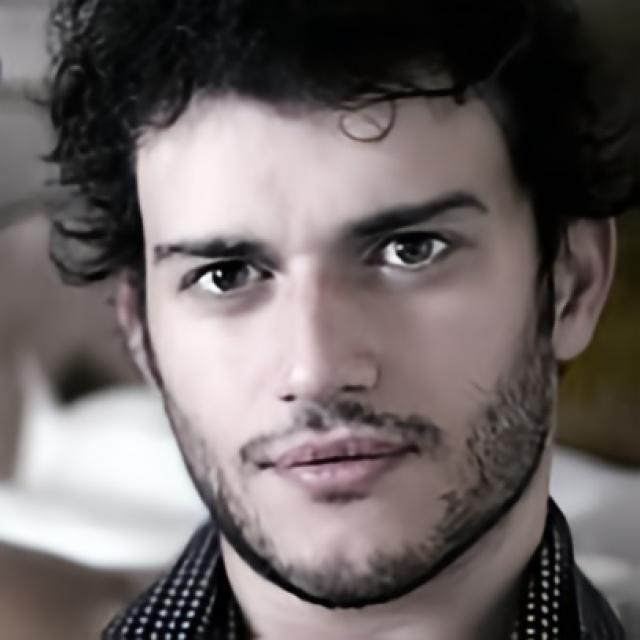content: (132, 59, 549, 612)
